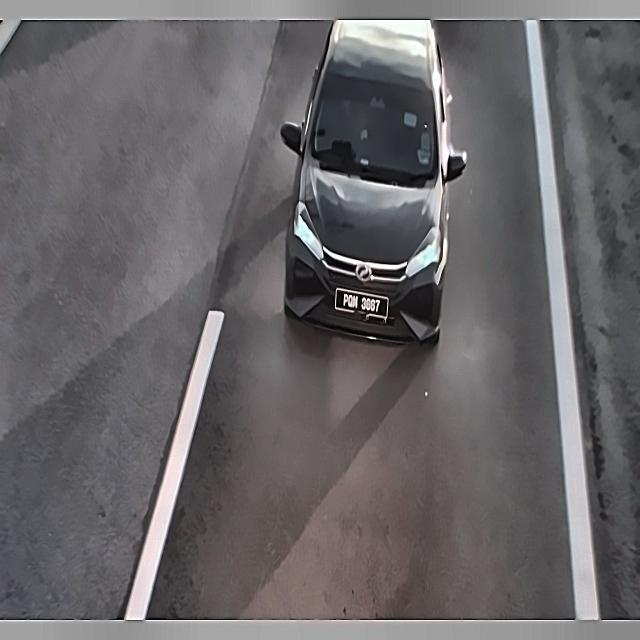car: (331, 282, 392, 328)
